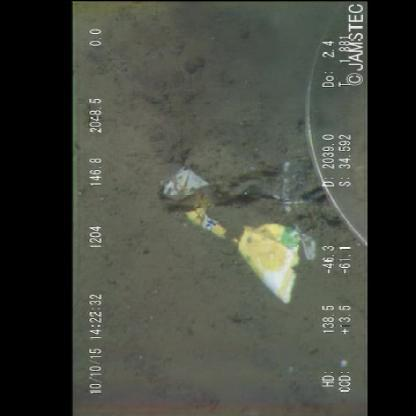Rác: (162, 152, 316, 310)
